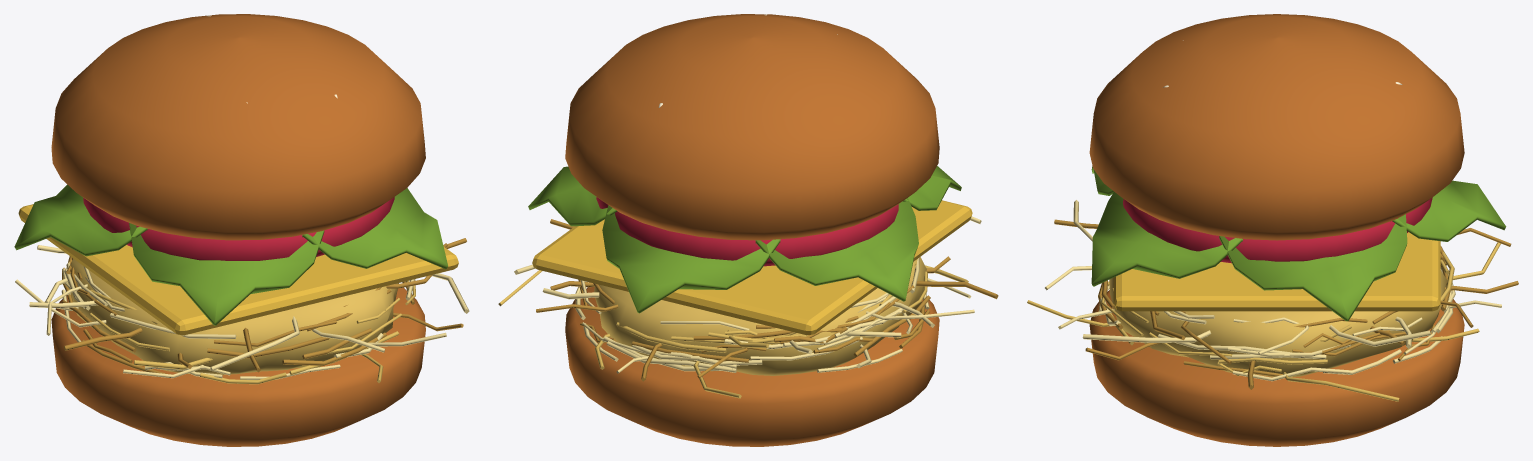
File: hayburger.glb
3 views of the same model, side by side, from view 1: azimuth 30°, elevation 25°; view 2: azimuth 150°, elevation 25°; view 3: azimuth 270°, elevation 25° (orthographic).
Parts seen in each view (by area): view 1: edible_bun_top.002, edible_bun_bottom.002, edible_hay_straw.001, edible_hay_patty.003, edible_cheese.002, edible_lettuce.032, edible_tomato.002, edible_lettuce.033, edible_lettuce.031; view 2: edible_bun_top.002, edible_bun_bottom.002, edible_hay_straw.001, edible_cheese.002, edible_hay_patty.003, edible_lettuce.030, edible_lettuce.031, edible_tomato.002, edible_lettuce.034, edible_lettuce.032; view 3: edible_bun_top.002, edible_bun_bottom.002, edible_hay_straw.001, edible_cheese.002, edible_hay_patty.003, edible_lettuce.034, edible_lettuce.033, edible_tomato.002, edible_lettuce.030.
Part boxes in pixels (x1,y1,x2,y2): edible_bun_top.002: (51, 14, 425, 240); edible_bun_bottom.002: (51, 287, 425, 446); edible_hay_straw.001: (15, 238, 469, 384); edible_hay_patty.003: (68, 259, 398, 374); edible_cheese.002: (18, 204, 458, 335); edible_lettuce.032: (129, 223, 324, 325); edible_tomato.002: (83, 197, 394, 260); edible_lettuce.033: (302, 188, 447, 269); edible_lettuce.031: (14, 184, 147, 256); edible_bun_top.002: (565, 14, 939, 240); edible_bun_bottom.002: (565, 287, 939, 446); edible_hay_straw.001: (498, 216, 998, 398); edible_cheese.002: (532, 200, 972, 335); edible_hay_patty.003: (594, 257, 926, 375); edible_lettuce.030: (602, 205, 780, 313); edible_lettuce.031: (755, 198, 918, 301); edible_tomato.002: (596, 197, 898, 266); edible_lettuce.034: (528, 166, 617, 226); edible_lettuce.032: (903, 166, 961, 210); edible_bun_top.002: (1089, 14, 1464, 240); edible_bun_bottom.002: (1089, 290, 1464, 446); edible_hay_straw.001: (1027, 200, 1518, 401); edible_cheese.002: (1113, 232, 1440, 311); edible_hay_patty.003: (1109, 270, 1447, 377); edible_lettuce.034: (1219, 214, 1407, 321); edible_lettuce.033: (1091, 191, 1242, 286); edible_tomato.002: (1123, 197, 1432, 263); edible_lettuce.030: (1392, 180, 1506, 241).
Bounding box in the file's own units: 0.2348 × 0.184 × 0.2361.
